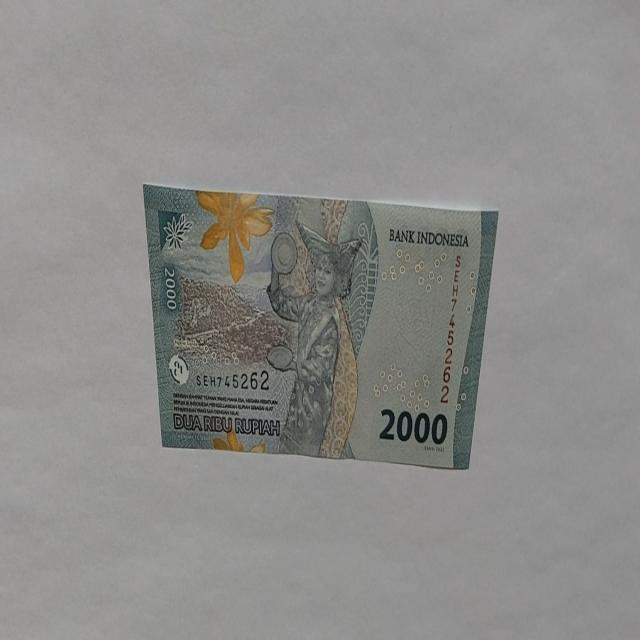dua ribu rupiah: (142, 184, 500, 470), (265, 218, 362, 458)
